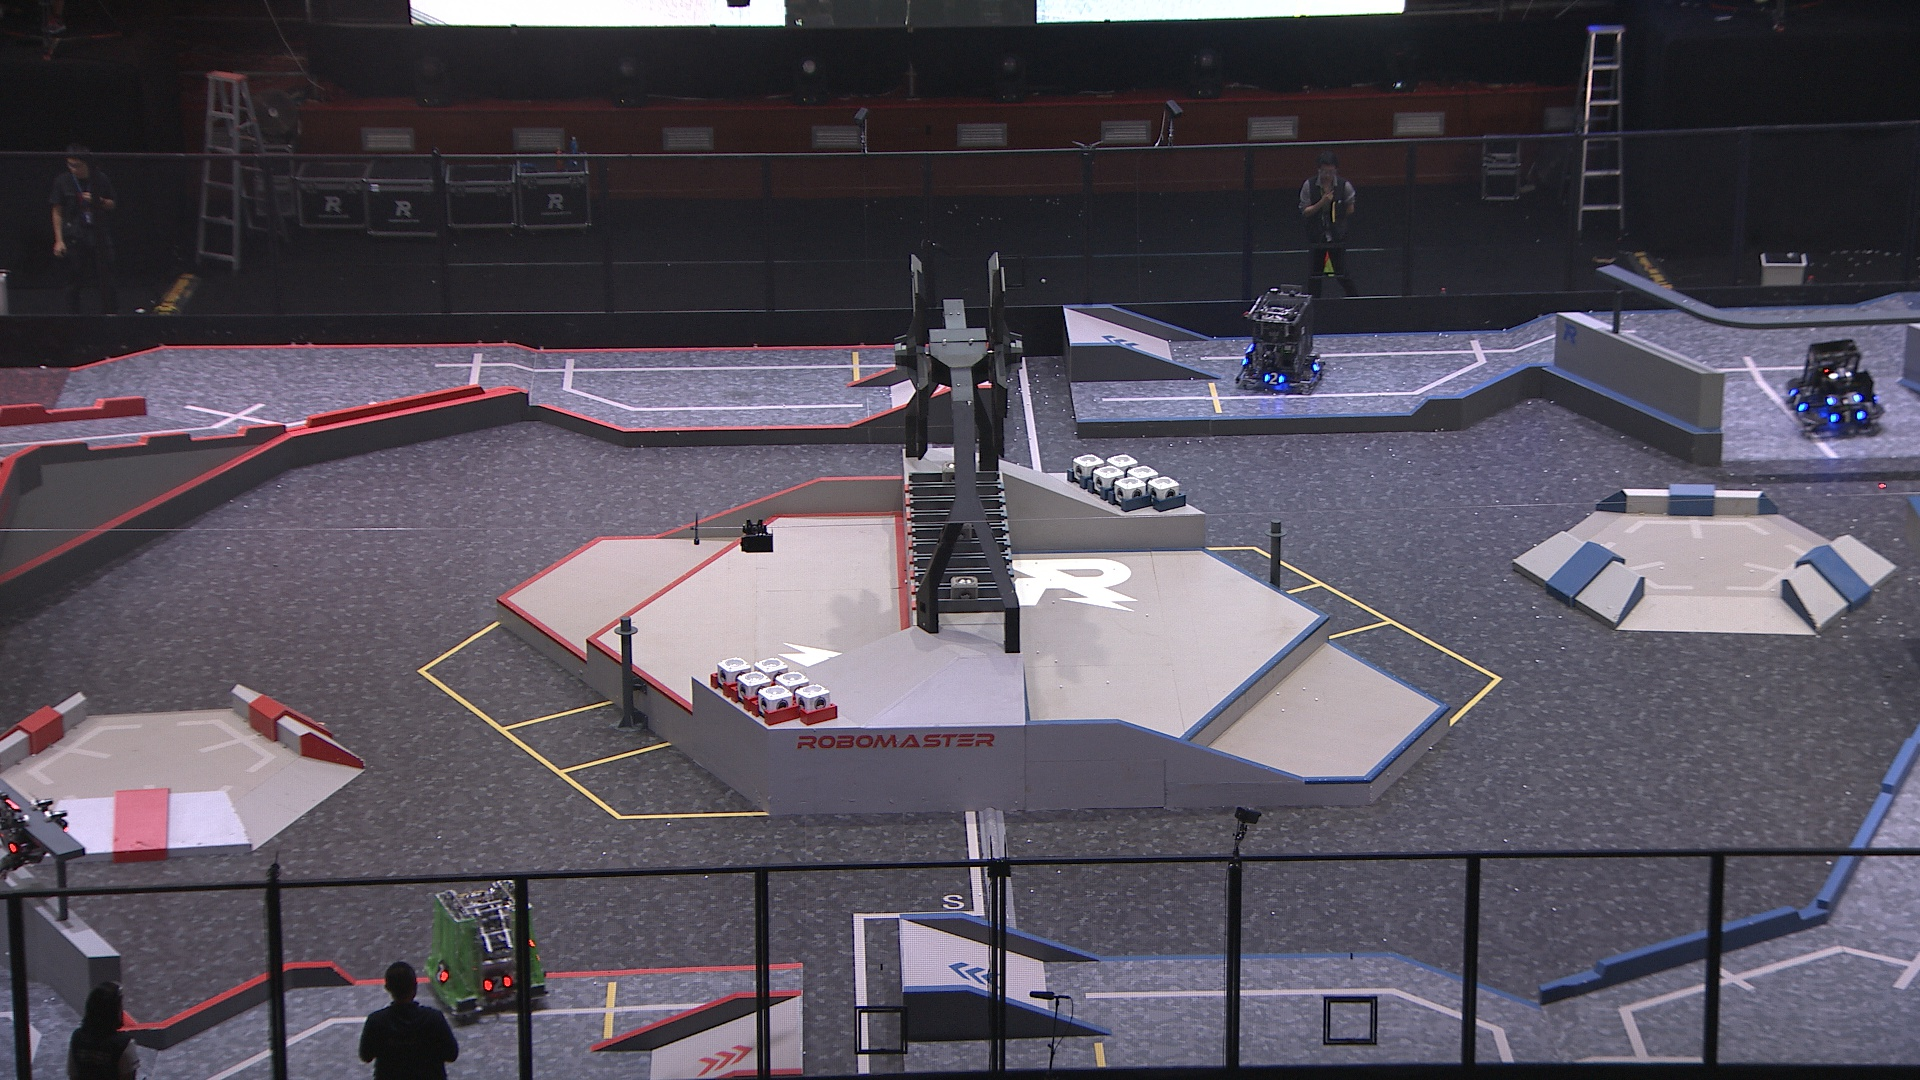armor: (1830, 407, 1865, 425), (481, 975, 512, 992), (1826, 392, 1861, 405), (1788, 389, 1807, 413), (1262, 371, 1287, 385), (433, 963, 448, 984), (1311, 357, 1323, 372)
car: (419, 877, 551, 1015), (1778, 338, 1884, 436), (1237, 282, 1325, 392)
